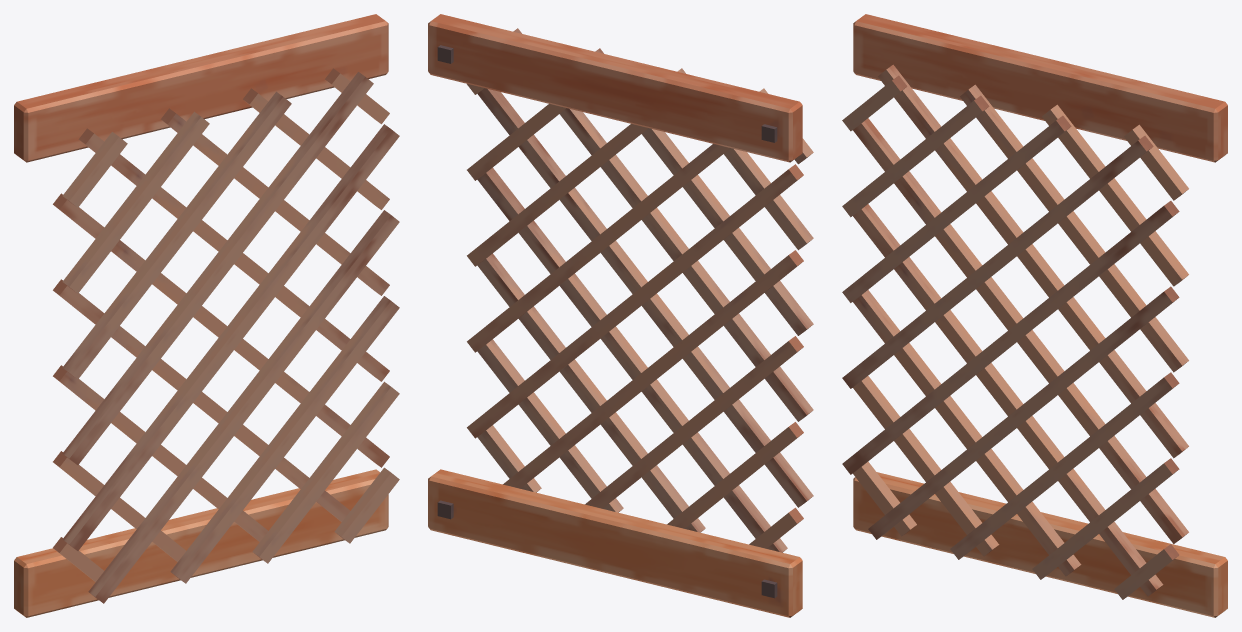
The model's file is wall_upper_window_window.fbx.
The picture shows the model from 3 angles, left to right: view 1: azimuth 30°, elevation 25°; view 2: azimuth 150°, elevation 25°; view 3: azimuth 330°, elevation 25°; orthographic projection.
Visible parts, largest first — view 1: wall_upper_window_window; view 2: wall_upper_window_window; view 3: wall_upper_window_window.
Part boxes in pixels (x1=…): wall_upper_window_window: x1=14, y1=14, x2=399, y2=617; wall_upper_window_window: x1=428, y1=14, x2=813, y2=617; wall_upper_window_window: x1=842, y1=14, x2=1227, y2=617.
Bounding box in the file's own units: 3.9 × 5.2 × 0.785.
